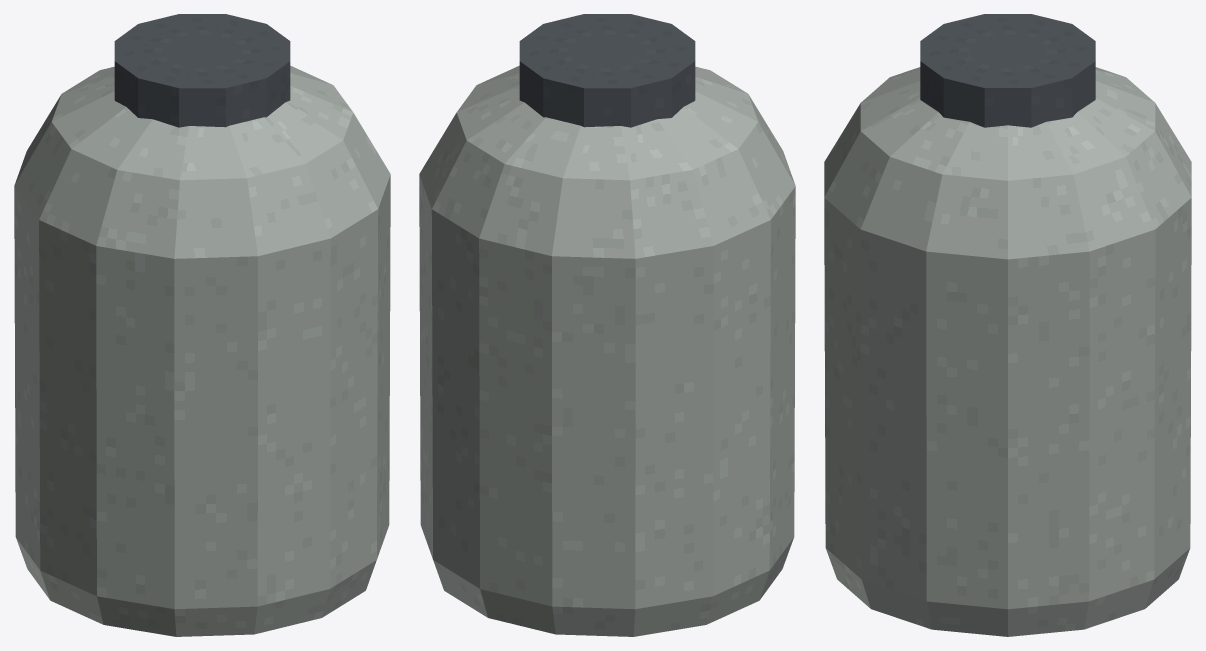
The model's file is canister_empty.glb.
The picture shows the model from 3 angles, left to right: view 1: azimuth 30°, elevation 25°; view 2: azimuth 150°, elevation 25°; view 3: azimuth 270°, elevation 25°; orthographic projection.
Parts seen in each view (by area): view 1: block_empty canister body, block_threaded lid; view 2: block_empty canister body, block_threaded lid; view 3: block_empty canister body, block_threaded lid.
Boxes of the visible parts, left/top/right/bottom form: block_empty canister body: left=14, top=65, right=390, bottom=636; block_threaded lid: left=114, top=14, right=290, bottom=127; block_empty canister body: left=419, top=65, right=795, bottom=636; block_threaded lid: left=519, top=14, right=695, bottom=127; block_empty canister body: left=824, top=67, right=1191, bottom=636; block_threaded lid: left=920, top=14, right=1095, bottom=127.
Size of the model in its own units: 0.0813 by 0.1217 by 0.0792.
1 material, 1 textured.
